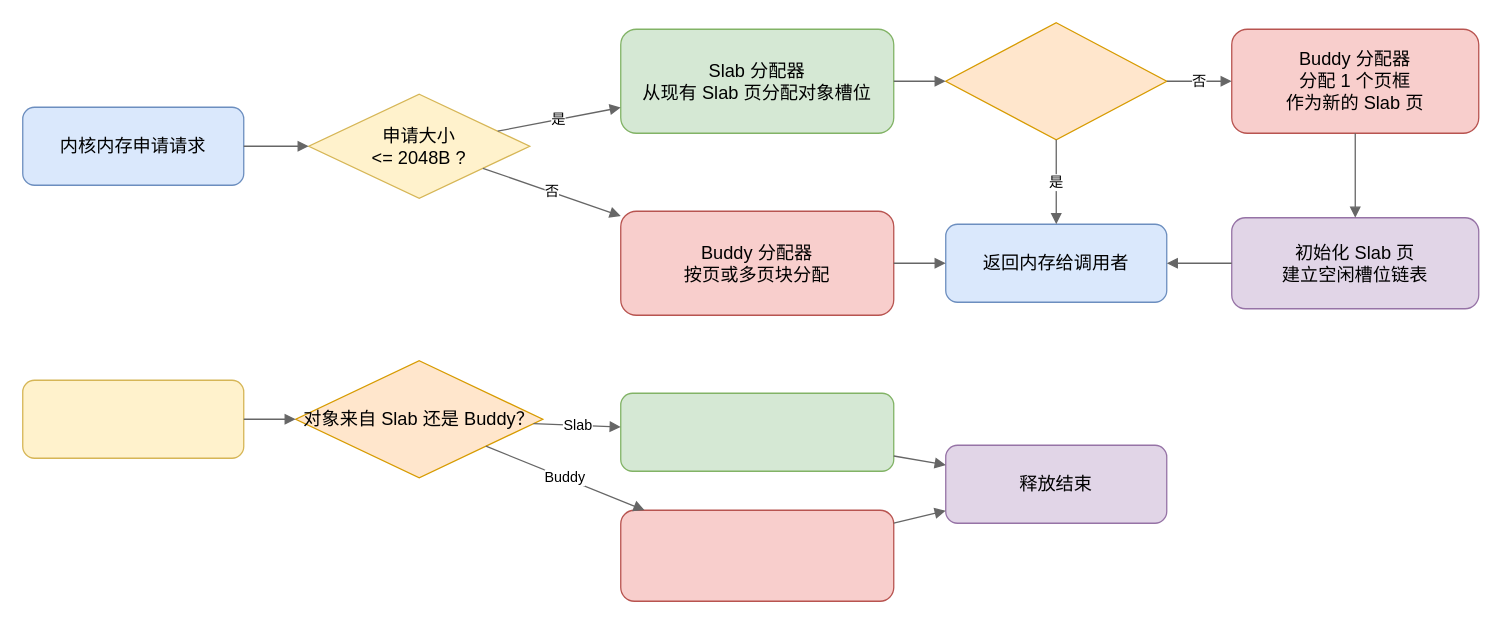
Image size: 1502x624. Some labels were removed from this diagram. Here are the shapes that lost their labels. From the top down, the centre of each, then its label:
At (1055,80): "是否存在可用 Slab 页？".
At (132,418): "释放请求".
At (756,431): "归还到 Slab 页空闲槽位".
At (756,555): "归还到 Buddy 分配器 按伙伴关系合并".
